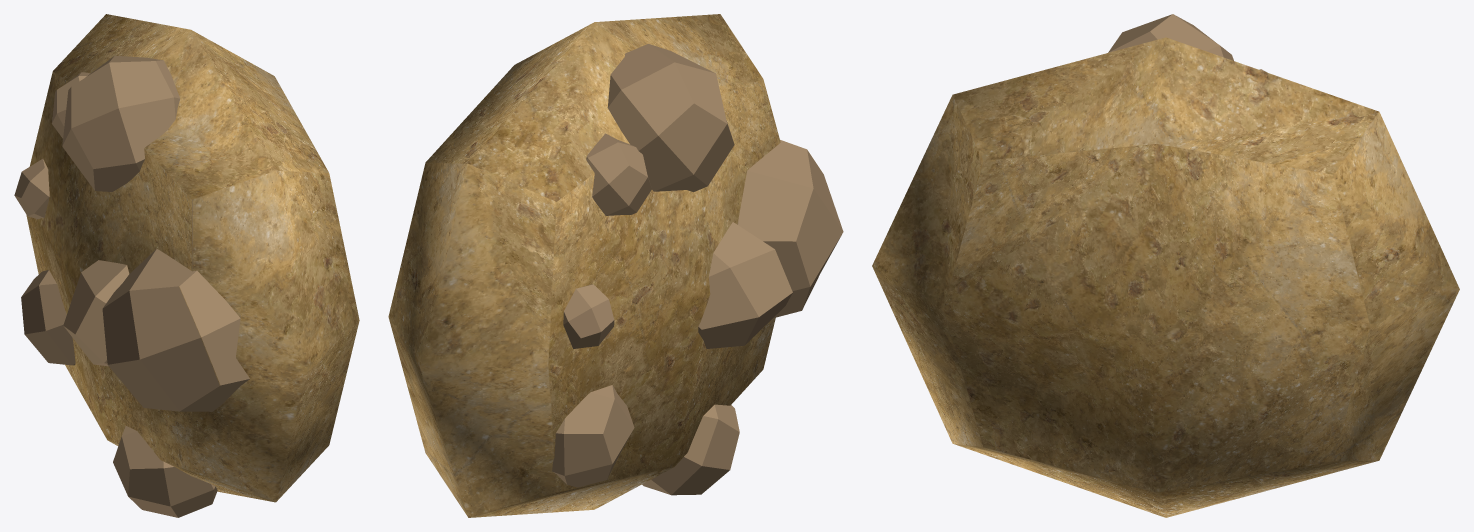
Rendered from Ores.fbx.
3 renders of one model, left to right at view 1: azimuth 30°, elevation 25°; view 2: azimuth 150°, elevation 25°; view 3: azimuth 270°, elevation 25°, orthographic. The views are drawn at different scales.
Visible parts, largest first — view 1: Ore_Full; view 2: Ore_Full; view 3: Ore_Full.
Boxes of the visible parts, box(x1,y1,x2,y2) form: Ore_Full: box(14, 14, 359, 517); Ore_Full: box(388, 14, 843, 517); Ore_Full: box(872, 14, 1459, 517).
Bounding box in the file's own units: 50.39 × 84.6 × 93.78.
